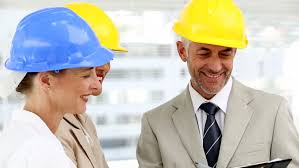Person_wearing_helmet: (7, 6, 115, 88), (171, 0, 256, 66)
